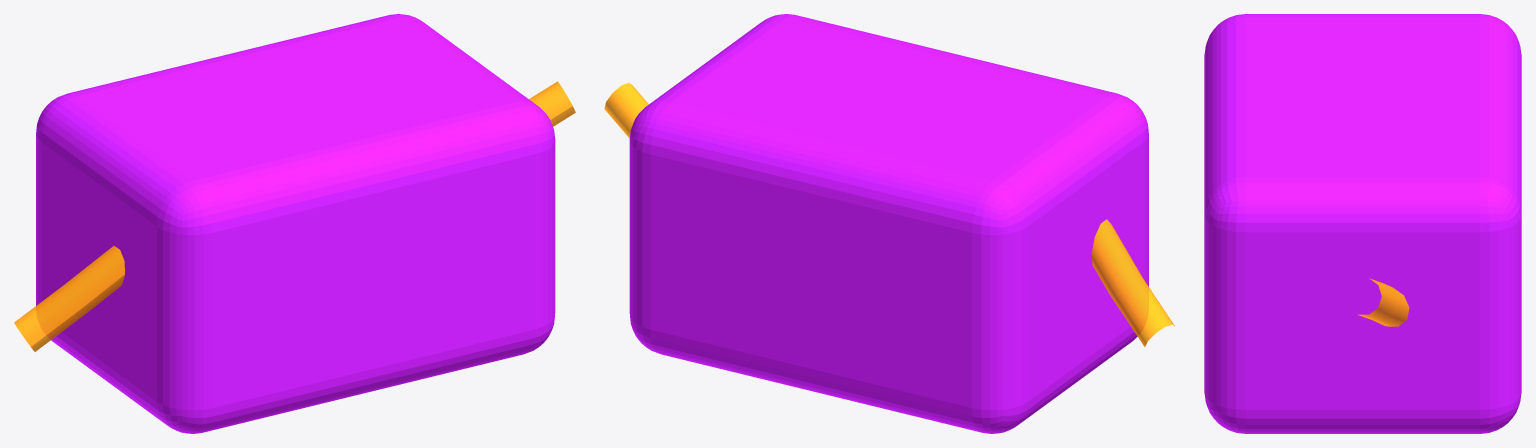
Rendered from remaining_systems_25.glb.
3 renders of one model, left to right at view 1: azimuth 30°, elevation 25°; view 2: azimuth 150°, elevation 25°; view 3: azimuth 270°, elevation 25°, orthographic.
Parts seen in each view (by area): view 1: asset_mesh__remaining_systems_1925__reference_body, asset_mesh__remaining_systems_1952__fluid_path; view 2: asset_mesh__remaining_systems_1925__reference_body, asset_mesh__remaining_systems_1952__fluid_path; view 3: asset_mesh__remaining_systems_1925__reference_body, asset_mesh__remaining_systems_1952__fluid_path.
Boxes of the visible parts, box(x1,y1,x2,y2) form: asset_mesh__remaining_systems_1925__reference_body: box(36, 14, 555, 433); asset_mesh__remaining_systems_1952__fluid_path: box(14, 81, 575, 351); asset_mesh__remaining_systems_1925__reference_body: box(629, 14, 1148, 433); asset_mesh__remaining_systems_1952__fluid_path: box(604, 82, 1174, 346); asset_mesh__remaining_systems_1925__reference_body: box(1204, 14, 1521, 433); asset_mesh__remaining_systems_1952__fluid_path: box(1357, 278, 1409, 326).
Size of the model in its own units: 1.73 by 0.7392 by 0.84.
